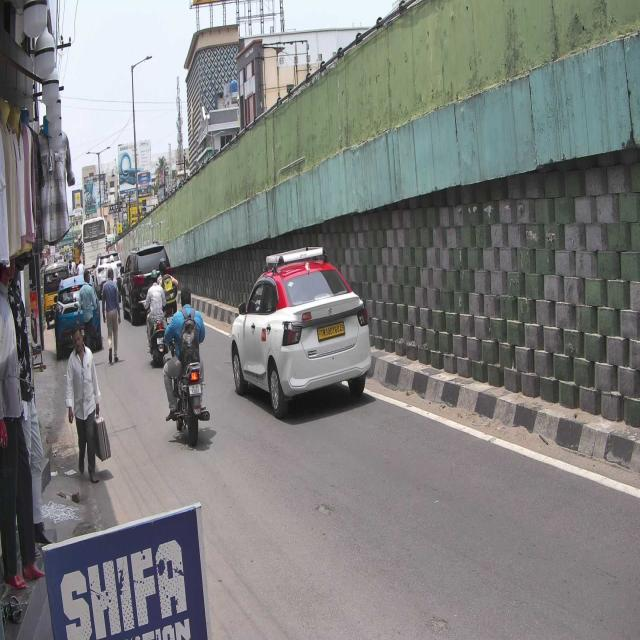single_rider: (168, 285, 210, 450)
